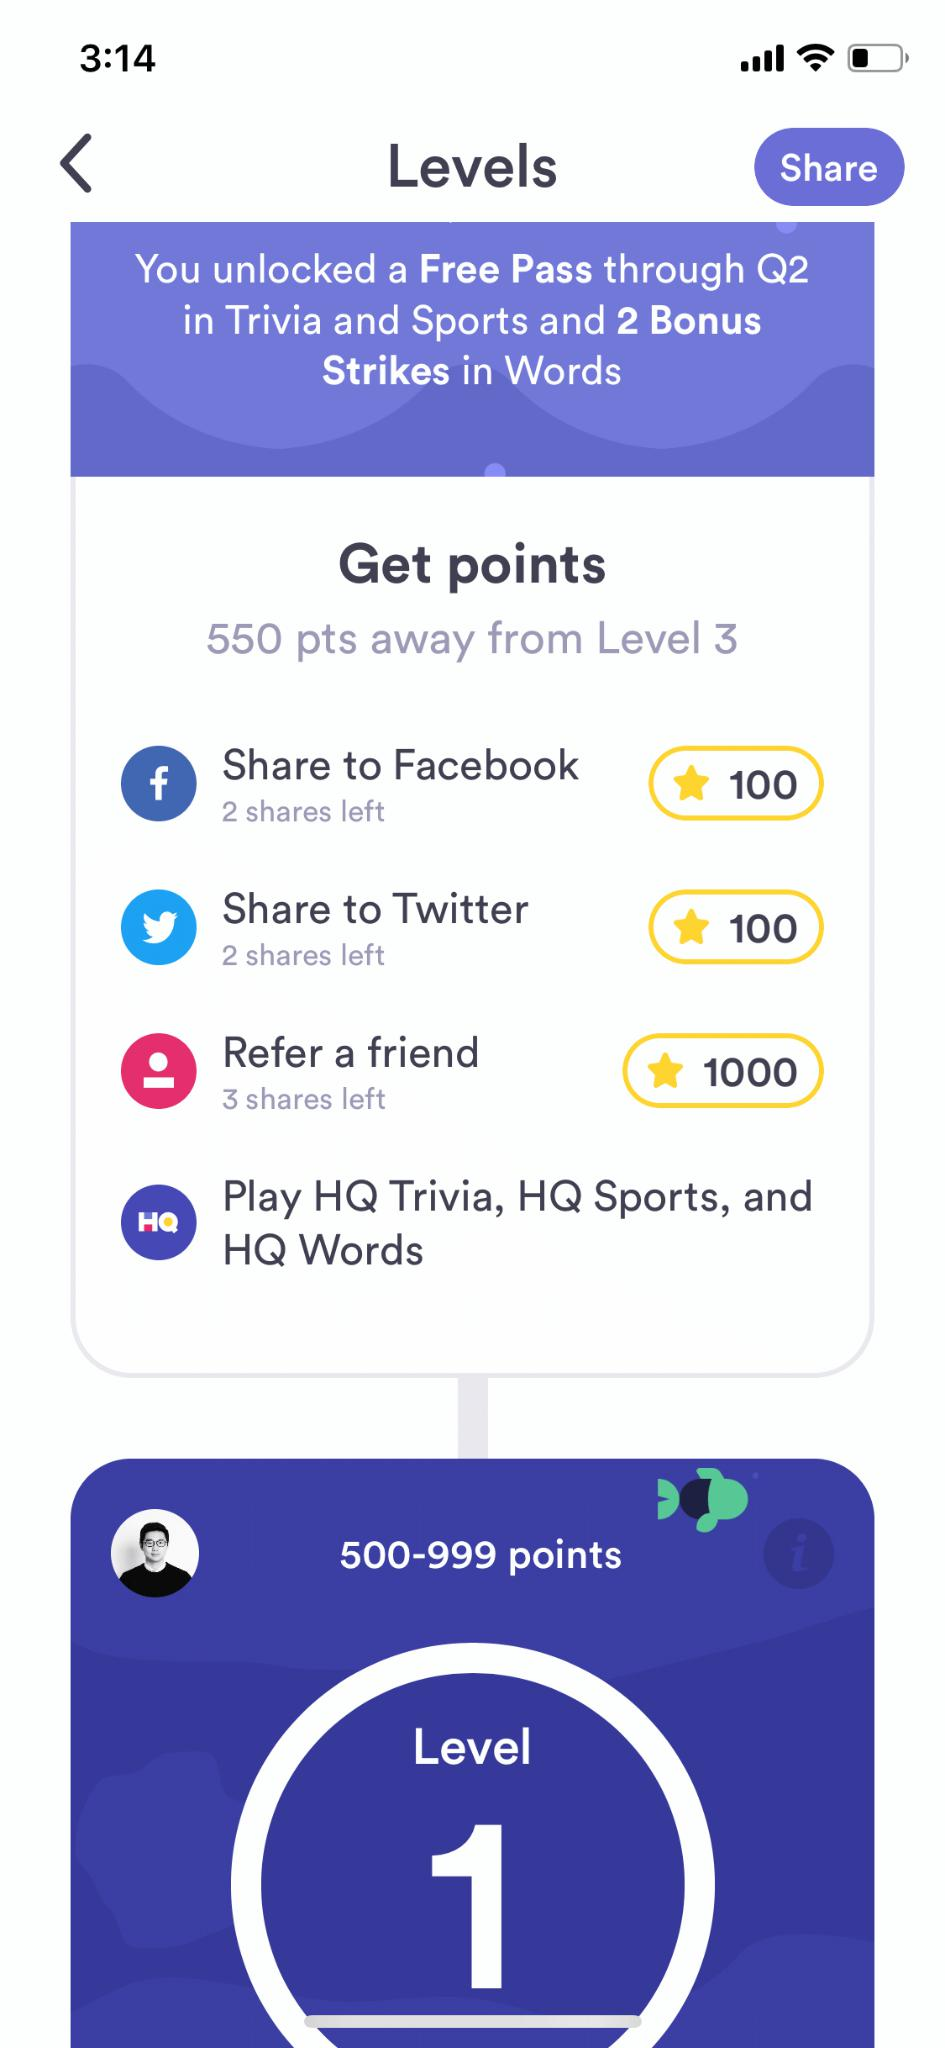Buttons: (624, 1032, 828, 1114), (646, 739, 835, 825), (643, 886, 829, 970), (751, 124, 915, 214), (42, 114, 124, 210), (757, 1518, 844, 1599)
